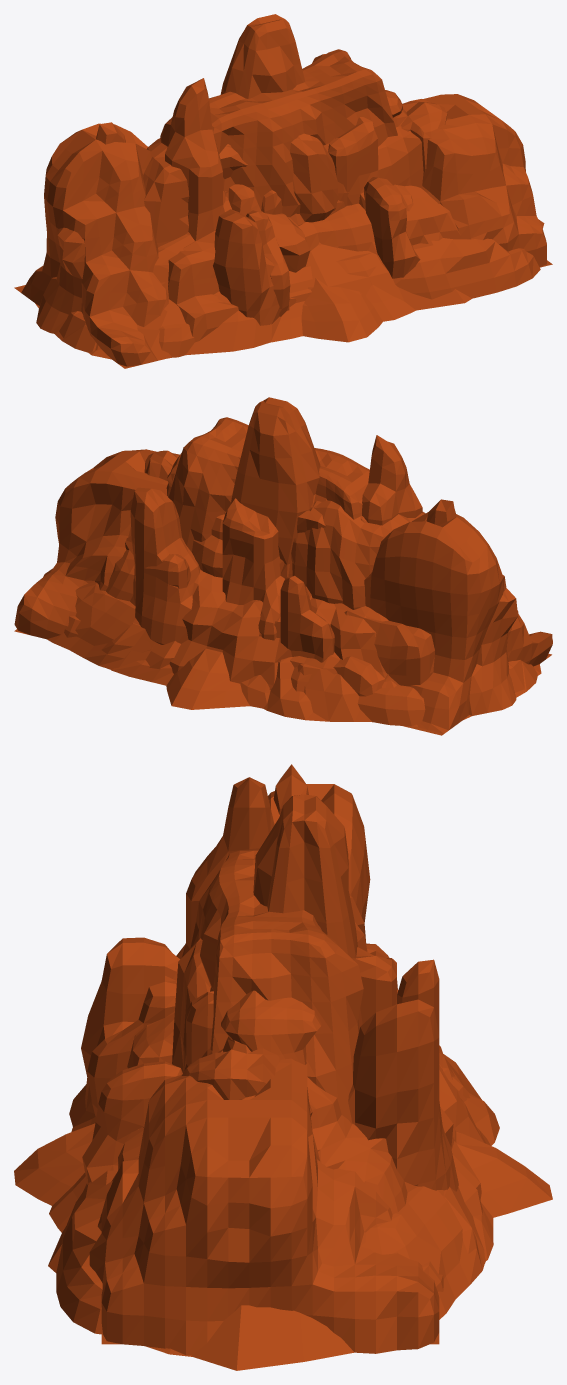
The picture shows the model from 3 angles, top to bottom: view 1: azimuth 30°, elevation 25°; view 2: azimuth 150°, elevation 25°; view 3: azimuth 270°, elevation 25°; orthographic projection. The views are drawn at different scales.
Parts seen in each view (by area): view 1: Mountain_desert_008, Mountain_desert_007, Plateau_desert_002, Plateau_desert_001, Plateau_desert_003, Plateau_desert_004, Mountain_desert_002, Mountain_desert_006, Mountain_desert_005, Plateau_desert_005, Hill_desert_004, Hill_desert_002; view 2: Mountain_desert_008, Mountain_desert_007, Plateau_desert_002, Plateau_desert_001, Plateau_desert_004, Plateau_desert_003, Mountain_desert_006, Mountain_desert_003, Plateau_desert_005, Mountain_desert_005, Hill_desert_004, Hill_desert_005 (+1 smaller); view 3: Mountain_desert_008, Plateau_desert_002, Mountain_desert_006, Plateau_desert_001, Plateau_desert_004, Mountain_desert_005, Plateau_desert_003, Hill_desert_004, Hill_desert_002, Mountain_desert_007, Mountain_desert_002, Plateau_desert_005 (+2 smaller).
Part boxes in pixels (bbox=[...]): Mountain_desert_008: bbox=[16, 78, 546, 368]; Mountain_desert_007: bbox=[14, 123, 552, 366]; Plateau_desert_002: bbox=[209, 49, 397, 295]; Plateau_desert_001: bbox=[158, 14, 540, 357]; Plateau_desert_003: bbox=[88, 99, 447, 359]; Plateau_desert_004: bbox=[55, 90, 461, 352]; Mountain_desert_002: bbox=[228, 117, 413, 272]; Mountain_desert_006: bbox=[213, 54, 325, 325]; Mountain_desert_005: bbox=[246, 177, 420, 316]; Plateau_desert_005: bbox=[59, 191, 305, 359]; Hill_desert_004: bbox=[301, 278, 382, 342]; Hill_desert_002: bbox=[306, 219, 544, 310]; Mountain_desert_008: bbox=[14, 435, 551, 732]; Mountain_desert_007: bbox=[14, 512, 552, 735]; Plateau_desert_002: bbox=[47, 417, 369, 667]; Plateau_desert_001: bbox=[64, 397, 425, 726]; Plateau_desert_004: bbox=[106, 453, 537, 697]; Plateau_desert_003: bbox=[128, 450, 541, 726]; Mountain_desert_006: bbox=[130, 487, 200, 644]; Mountain_desert_003: bbox=[222, 498, 312, 640]; Plateau_desert_005: bbox=[101, 623, 534, 721]; Mountain_desert_005: bbox=[144, 554, 334, 662]; Hill_desert_004: bbox=[166, 648, 249, 709]; Hill_desert_005: bbox=[111, 660, 270, 708]; Mountain_desert_008: bbox=[89, 764, 439, 1355]; Plateau_desert_002: bbox=[190, 850, 484, 1319]; Mountain_desert_006: bbox=[81, 937, 458, 1191]; Plateau_desert_001: bbox=[56, 794, 470, 1334]; Plateau_desert_004: bbox=[111, 989, 483, 1214]; Mountain_desert_005: bbox=[82, 959, 439, 1184]; Plateau_desert_003: bbox=[49, 895, 499, 1356]; Hill_desert_004: bbox=[14, 1123, 552, 1217]; Hill_desert_002: bbox=[48, 1183, 354, 1370]; Mountain_desert_007: bbox=[101, 784, 439, 1344]; Mountain_desert_002: bbox=[127, 991, 213, 1129]; Plateau_desert_005: bbox=[69, 1051, 485, 1264].
Bounding box in the file's own units: 58.21 × 28.79 × 36.7.
1 material, 1 textured.
